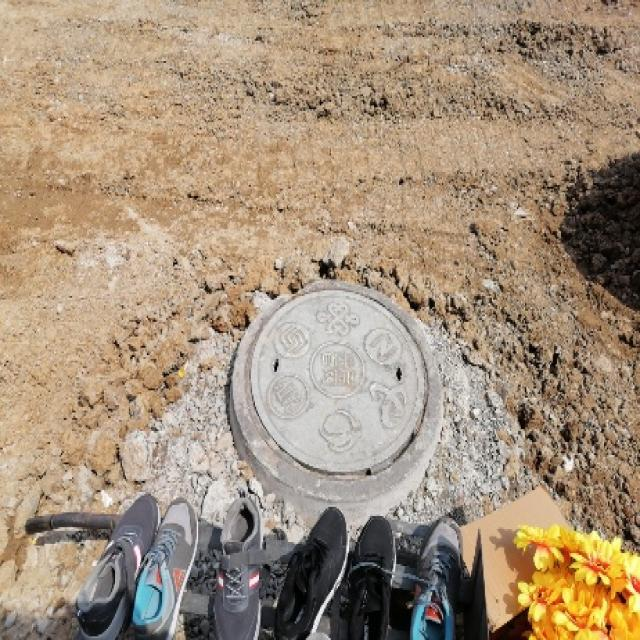Good: (245, 278, 446, 482)
